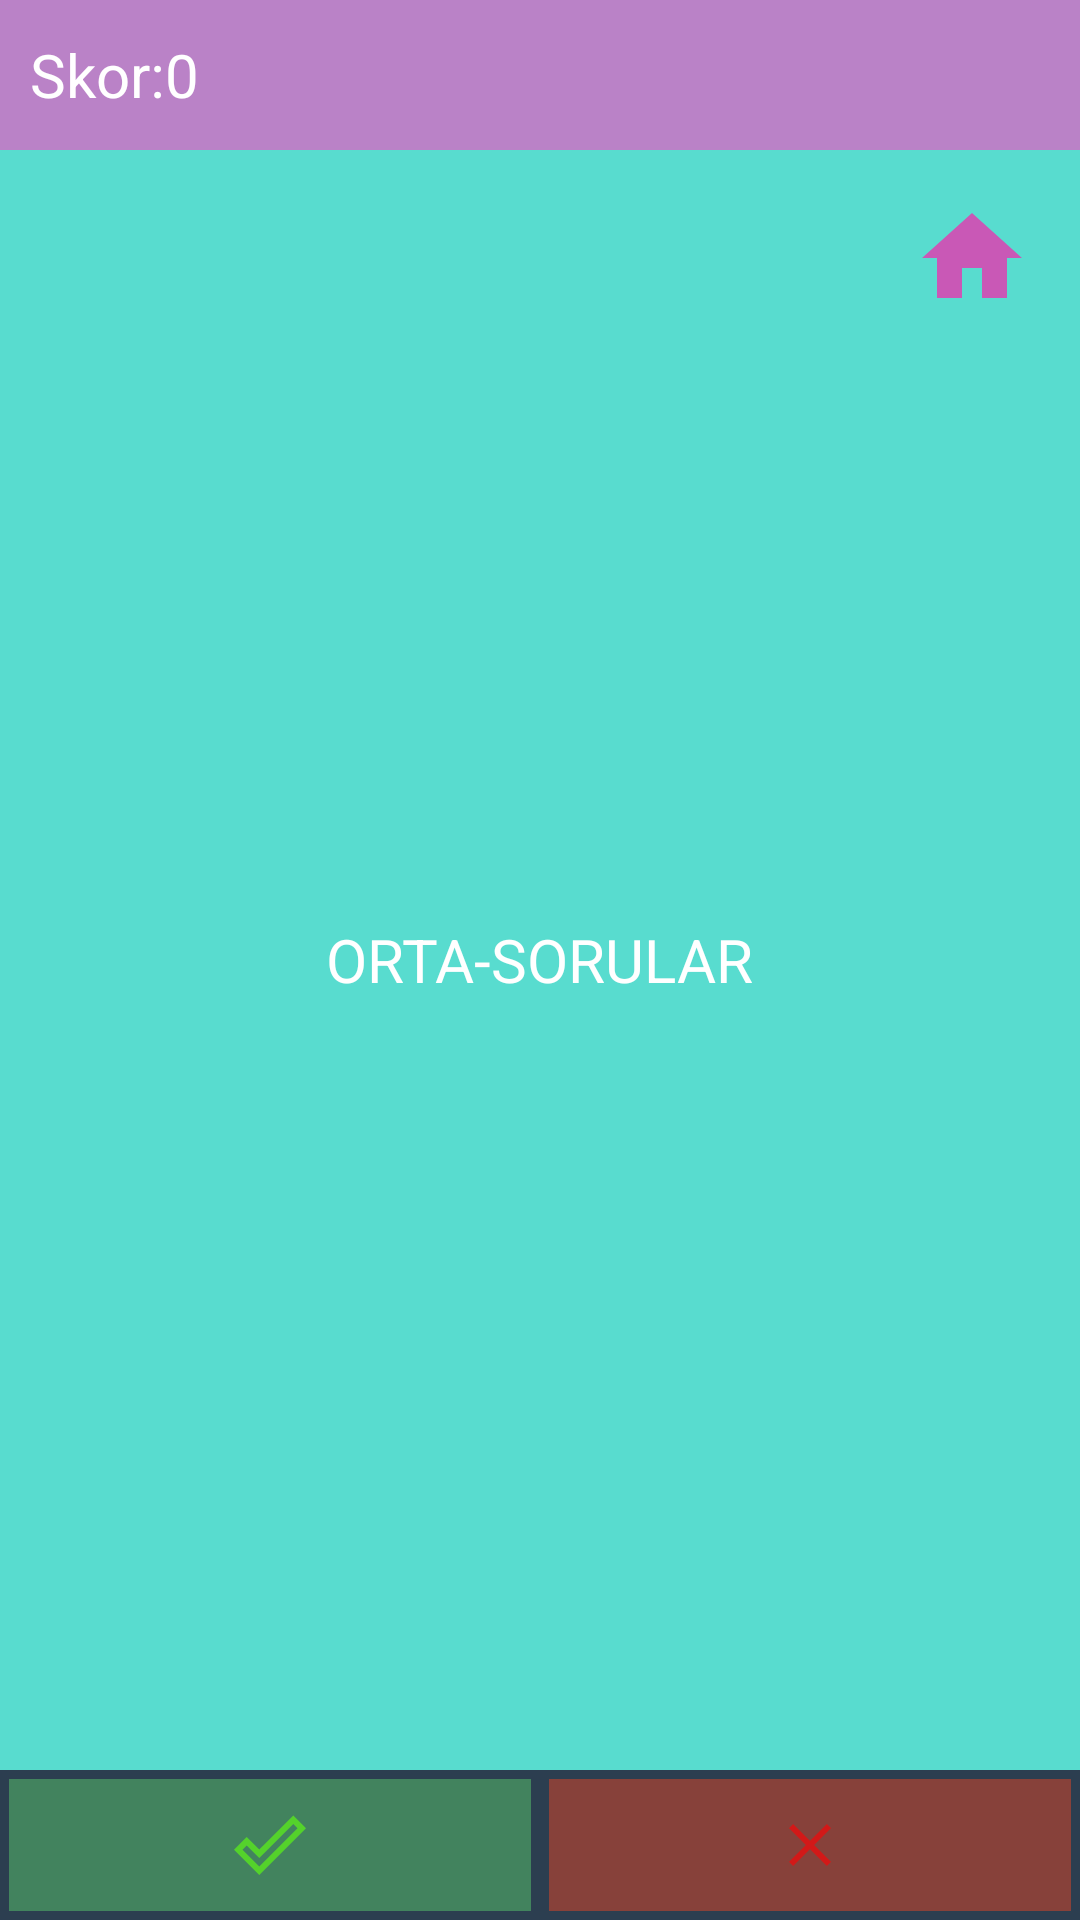

Icon bounding boxes for this 1080*1920 phone screenshot, format (x1, y1, x2, y2):
anasayfa: (922, 213, 1022, 298)
